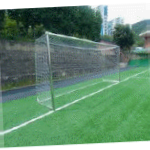goals: (33, 30, 122, 112)
